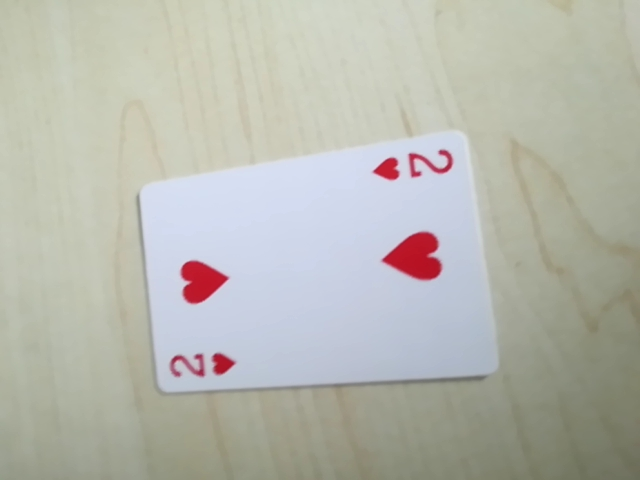hx 2: (370, 140, 460, 192), (163, 342, 244, 389)
